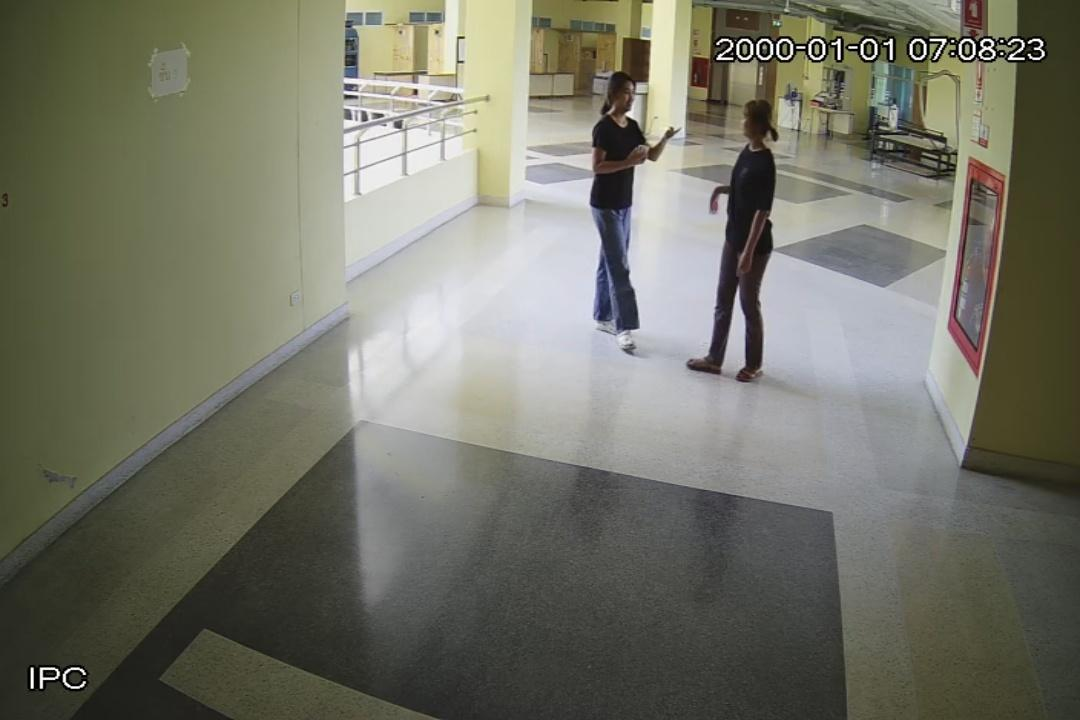normal: (589, 74, 679, 350), (694, 104, 782, 381)
